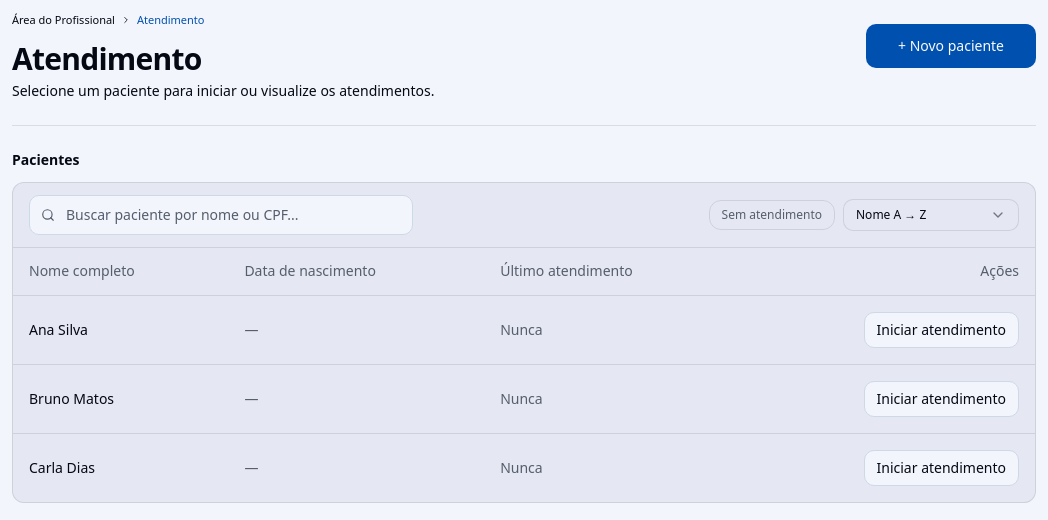
Test case: ConsultationPageClient — busca de pacientes › filtra por nome (case-insensitive)
In the search field with placeholder "Buscar paciente por nome ou CPF...": (221, 214) [29,194,413,234], type "ana"
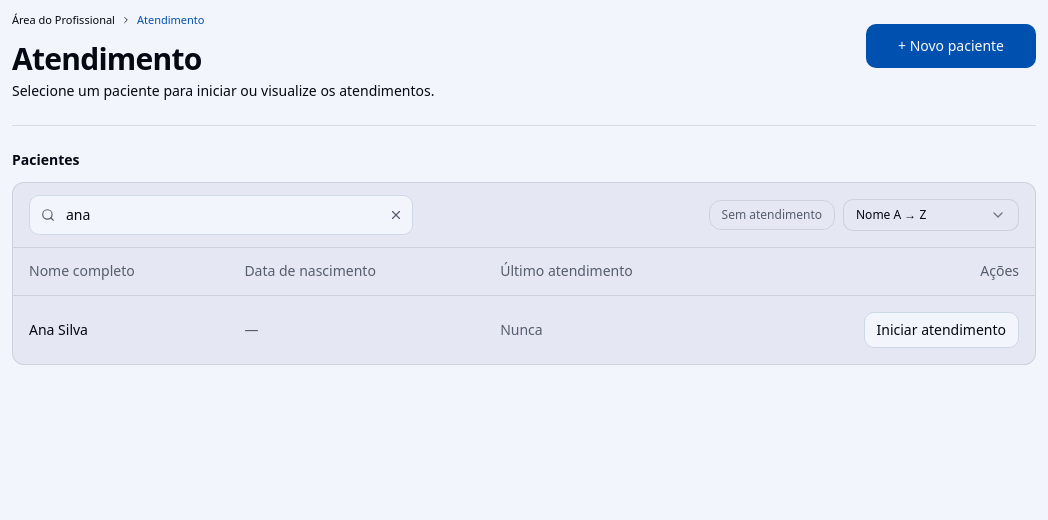
expect the text "Ana Silva" is shown: met, box [29,320,88,339]
expect the text "Bruno Matos" is gone: met
expect the text "Carla Dias" is gone: met
